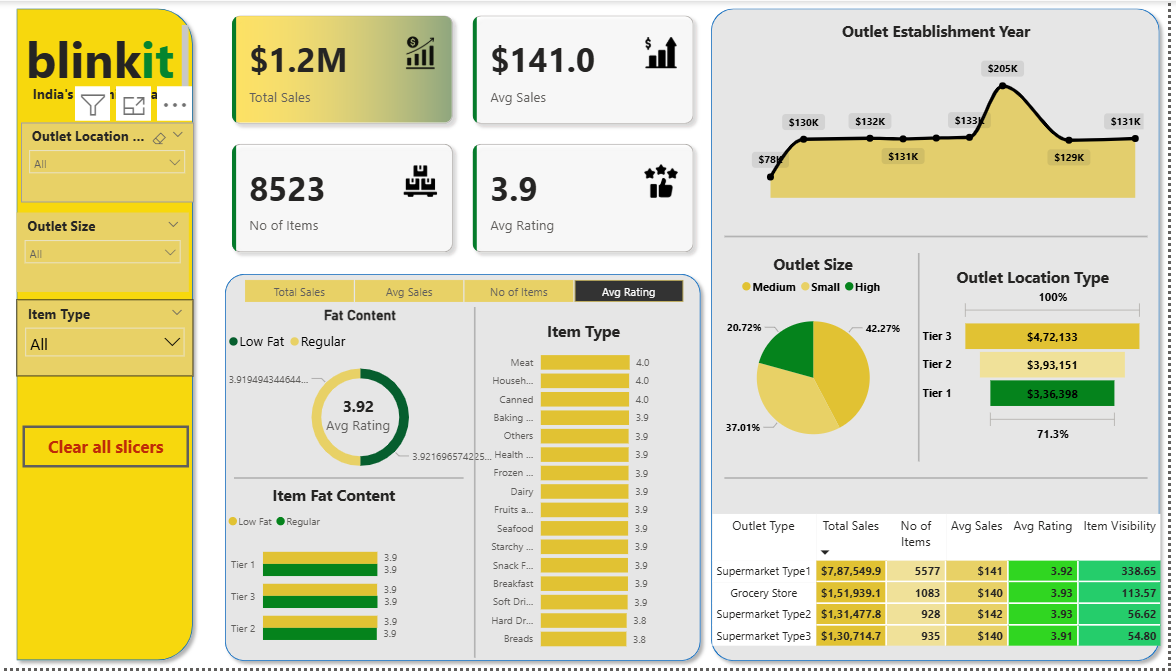

The page's visual inventory and layout, read from the dashboard file:
{"tool":"powerbi","page":{"name":"Page 1","canvas":[1400,800],"ordinal":0},"visuals":[{"type":"shape","box":[10.3,0,229.4,799.9],"z":0},{"type":"textbox","box":[18.6,22.7,212.9,86.8],"z":1000},{"type":"textbox","box":[33.3,95,185,58.3],"z":2000},{"type":"cardVisual","fields":{"Data":["BlinkIT Grocery Data.Total Sales","BlinkIT Grocery Data.Avg Sales","BlinkIT Grocery Data.No of Items","BlinkIT Grocery Data.Avg Rating"]},"box":[261.7,0,588.3,318.3],"z":3000},{"type":"shape","box":[260.9,318.4,588.3,482.2],"z":4000},{"type":"donutChart","title":"Fat Content","fields":{"Y":["BlinkIT Grocery Data.Avg Rating"],"Category":["BlinkIT Grocery Data.Item Fat Content"]},"box":[268.1,367,327.4,212.3],"z":5000},{"type":"slicer","fields":{"Values":["Metrics.Metrics"]},"box":[268.3,328.3,575,40],"z":6000},{"type":"cardVisual","fields":{"Data":["BlinkIT Grocery Data.Avg Rating"]},"box":[370.6,455.2,118.7,79.2],"z":7000},{"type":"clusteredBarChart","title":"Item Fat Content","fields":{"Y":["BlinkIT Grocery Data.Avg Rating"],"Category":["BlinkIT Grocery Data.Outlet Location Type"],"Series":["BlinkIT Grocery Data.Item Fat Content"]},"box":[268.1,579.3,264.5,208.7],"z":8000},{"type":"shape","box":[280.7,494.8,275.3,154.7],"z":9000},{"type":"shape","box":[431.8,367,275.3,421],"z":10000},{"type":"barChart","title":"Item Type","fields":{"Y":["BlinkIT Grocery Data.Avg Rating"],"Category":["BlinkIT Grocery Data.Item Type"]},"box":[570.3,383.2,259.1,404.8],"z":11000},{"type":"shape","box":[843.8,0,555.9,800.6],"z":12000},{"type":"lineChart","title":"Outlet Establishment Year","fields":{"Y":["BlinkIT Grocery Data.Total Sales"],"Category":["BlinkIT Grocery Data.Outlet Establishment Year"]},"box":[869,23.4,507.4,217.7],"z":13000},{"type":"pieChart","title":"Outlet Size","fields":{"Y":["BlinkIT Grocery Data.Total Sales"],"Category":["BlinkIT Grocery Data.Outlet Size"]},"box":[849.2,302.3,251.9,257.3],"z":14000},{"type":"shape","box":[869,262.7,507.4,39.6],"z":15000},{"type":"shape","box":[1016.5,302.3,170.9,250.1],"z":16000},{"type":"funnel","title":"Outlet Location Type","fields":{"Y":["BlinkIT Grocery Data.Total Sales"],"Category":["BlinkIT Grocery Data.Outlet Location Type"]},"box":[1101.1,318.4,275.3,215.9],"z":17000},{"type":"shape","box":[869,552.3,507.4,39.6],"z":18000},{"type":"pivotTable","fields":{"Values":["BlinkIT Grocery Data.Total Sales","BlinkIT Grocery Data.No of Items","BlinkIT Grocery Data.Avg Sales","BlinkIT Grocery Data.Avg Rating","Sum(BlinkIT Grocery Data.Item Visibility)"],"Rows":["BlinkIT Grocery Data.Outlet Type"]},"box":[849.2,609.9,550.5,178.1],"z":19000},{"type":"slicer","fields":{"Values":["BlinkIT Grocery Data.Outlet Size"]},"box":[19.8,253.7,206.9,95.4],"z":20000},{"type":"slicer","fields":{"Values":["BlinkIT Grocery Data.Item Type"]},"box":[19.8,358,212.3,91.8],"z":21000},{"type":"actionButton","box":[27,509.2,199.7,50.4],"z":22000},{"type":"slicer","fields":{"Values":["BlinkIT Grocery Data.Outlet Location Type"]},"box":[25.2,145.7,206.9,95.4],"z":23000}]}

Visuals, with their boxes in screenshot pixels (x1, y1, x2, y2), scaled from the page's 1400x800 canvas onto the 1176x671 screenshot:
shape: bbox=[9, 0, 201, 670]
textbox: bbox=[16, 19, 194, 92]
textbox: bbox=[28, 80, 183, 129]
cardVisual - BlinkIT Grocery Data.Total Sales x BlinkIT Grocery Data.Avg Sales: bbox=[220, 0, 714, 267]
shape: bbox=[219, 267, 713, 670]
"Fat Content" donutChart: bbox=[225, 308, 500, 486]
slicer - Metrics.Metrics: bbox=[225, 275, 708, 309]
cardVisual - BlinkIT Grocery Data.Avg Rating: bbox=[311, 382, 411, 448]
"Item Fat Content" clusteredBarChart: bbox=[225, 486, 447, 661]
shape: bbox=[236, 415, 467, 545]
shape: bbox=[363, 308, 594, 661]
"Item Type" barChart: bbox=[479, 321, 697, 661]
shape: bbox=[709, 0, 1175, 670]
"Outlet Establishment Year" lineChart: bbox=[730, 20, 1156, 202]
"Outlet Size" pieChart: bbox=[713, 254, 925, 469]
shape: bbox=[730, 220, 1156, 254]
shape: bbox=[854, 254, 997, 463]
"Outlet Location Type" funnel: bbox=[925, 267, 1156, 448]
shape: bbox=[730, 463, 1156, 496]
pivotTable - BlinkIT Grocery Data.Total Sales x BlinkIT Grocery Data.No of Items: bbox=[713, 512, 1175, 661]
slicer - BlinkIT Grocery Data.Outlet Size: bbox=[17, 213, 190, 293]
slicer - BlinkIT Grocery Data.Item Type: bbox=[17, 300, 195, 377]
actionButton: bbox=[23, 427, 190, 469]
slicer - BlinkIT Grocery Data.Outlet Location Type: bbox=[21, 122, 195, 202]
